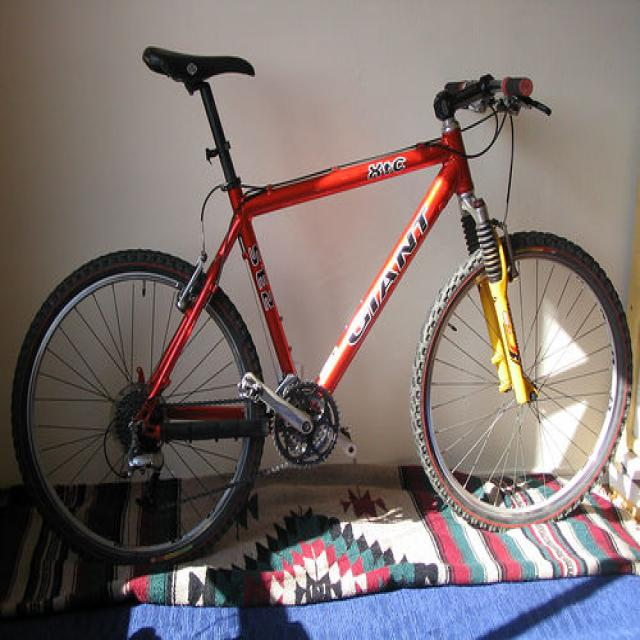bicycle: (10, 44, 635, 569)
